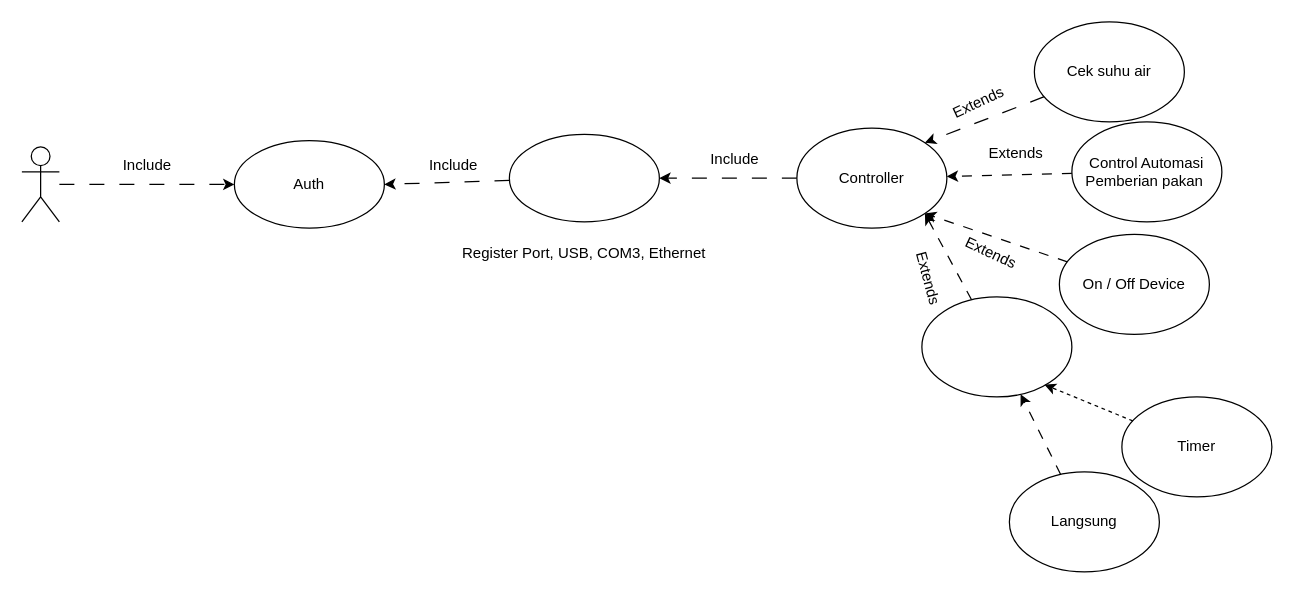
This 1294x594 diagram has some shape labels left out. The shapes that lost their labels are listed below. From the top down, each one's box as (x1, y1, x2, y2) in pixels, then its label:
(21, 146, 59, 222): Actor
(508, 133, 659, 222): Register Device
(921, 296, 1072, 397): Pemberian pakan Manual
